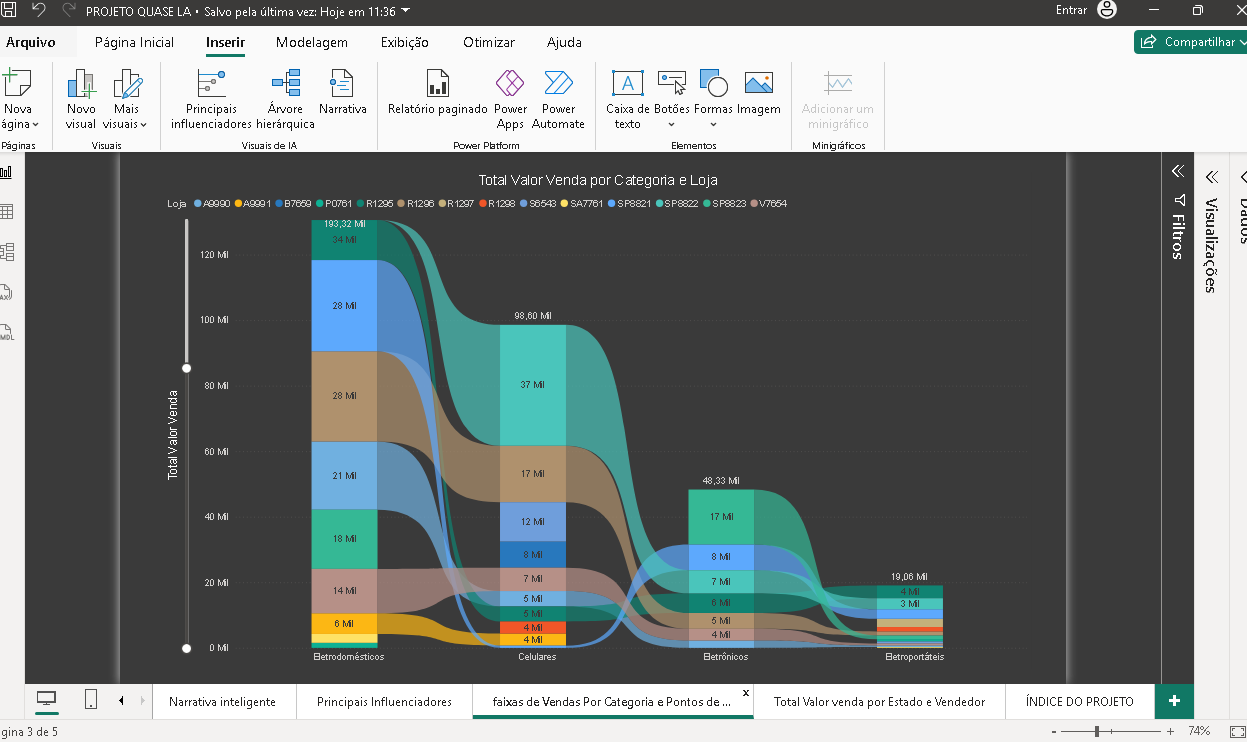

Layout of this report page (visuals, bound fields, positions):
{"tool":"powerbi","page":{"name":"faixas de Vendas  Por Categoria e Pontos de Vendas","canvas":[1280,720],"ordinal":3},"visuals":[{"type":"ribbonChart","fields":{"Category":["Vendas.Categoria"],"Y":["Sum(Vendas.ValorVenda)"],"Series":["Vendas.Loja"]},"box":[57.6,27.3,1175.4,673.4],"z":0}]}

Visuals, with their boxes on the page's 1280x720 design canvas (x1, y1, x2, y2). These are canvas units, not pixel positions in the 1247x742 screenshot, which may show the page scaled, cropped or inside an application window:
ribbonChart - Vendas.Categoria x Sum(Vendas.ValorVenda): 58 27 1233 701
